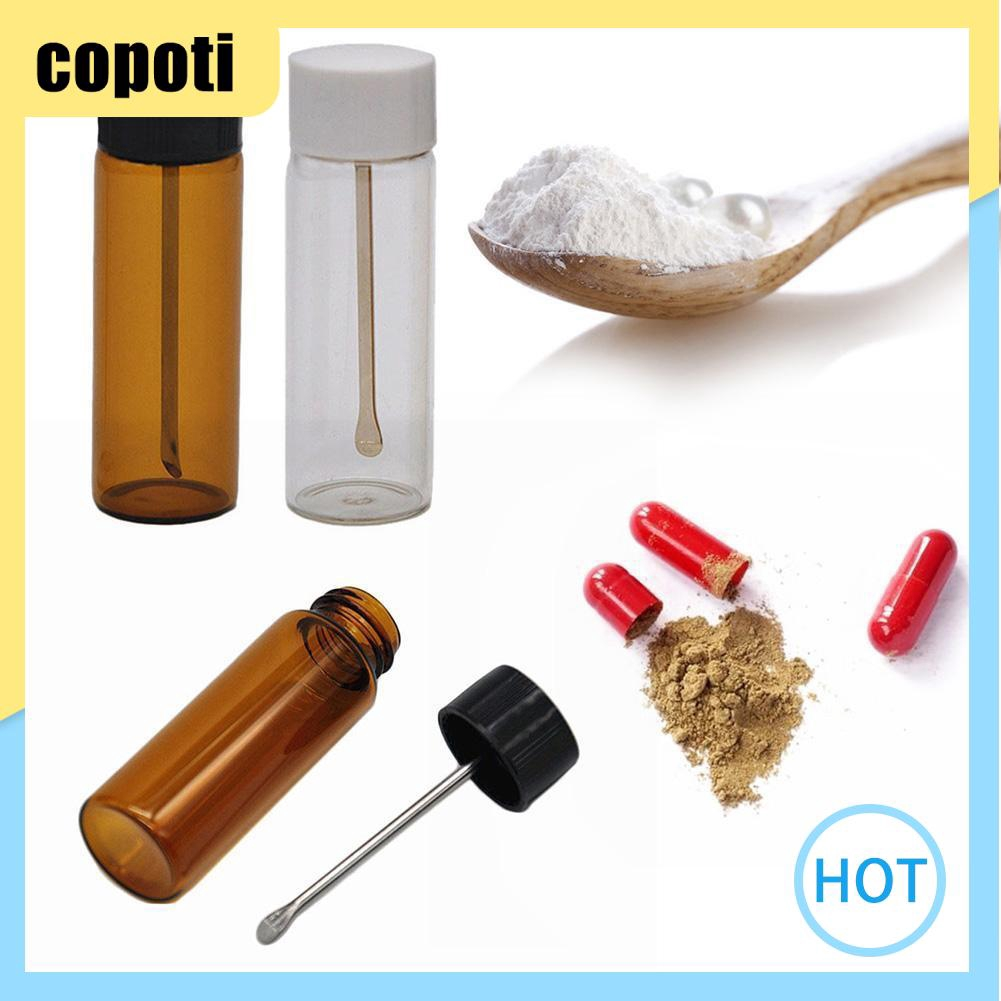glass_bottle: (73, 583, 404, 908), (279, 41, 439, 530), (89, 105, 245, 528)
